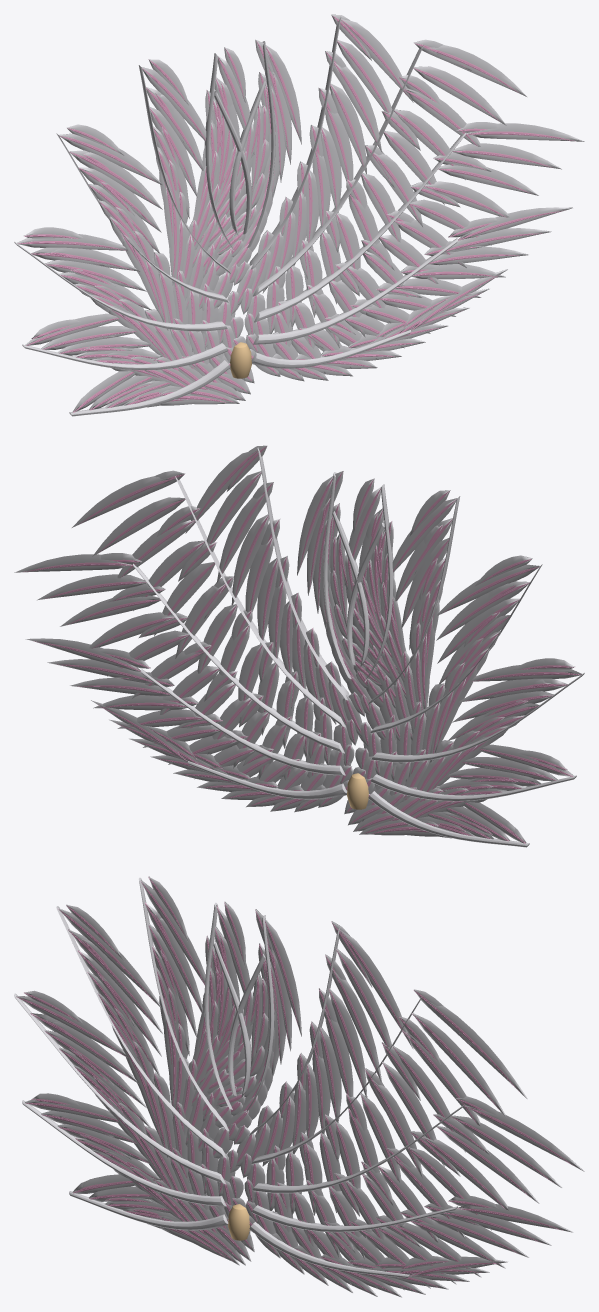
File: wings.glb
3 renders of one model, top to bottom at view 1: azimuth 30°, elevation 25°; view 2: azimuth 150°, elevation 25°; view 3: azimuth 330°, elevation 25°, orthographic.
Parts seen in each view (by area): view 1: wings; view 2: wings; view 3: wings.
Part boxes in pixels (box(x1,y1,x2,y2)): wings: box(14, 14, 584, 416); wings: box(14, 445, 584, 847); wings: box(14, 876, 584, 1297).
Bounding box in the file's own units: 5.71 × 3.51 × 0.21.
